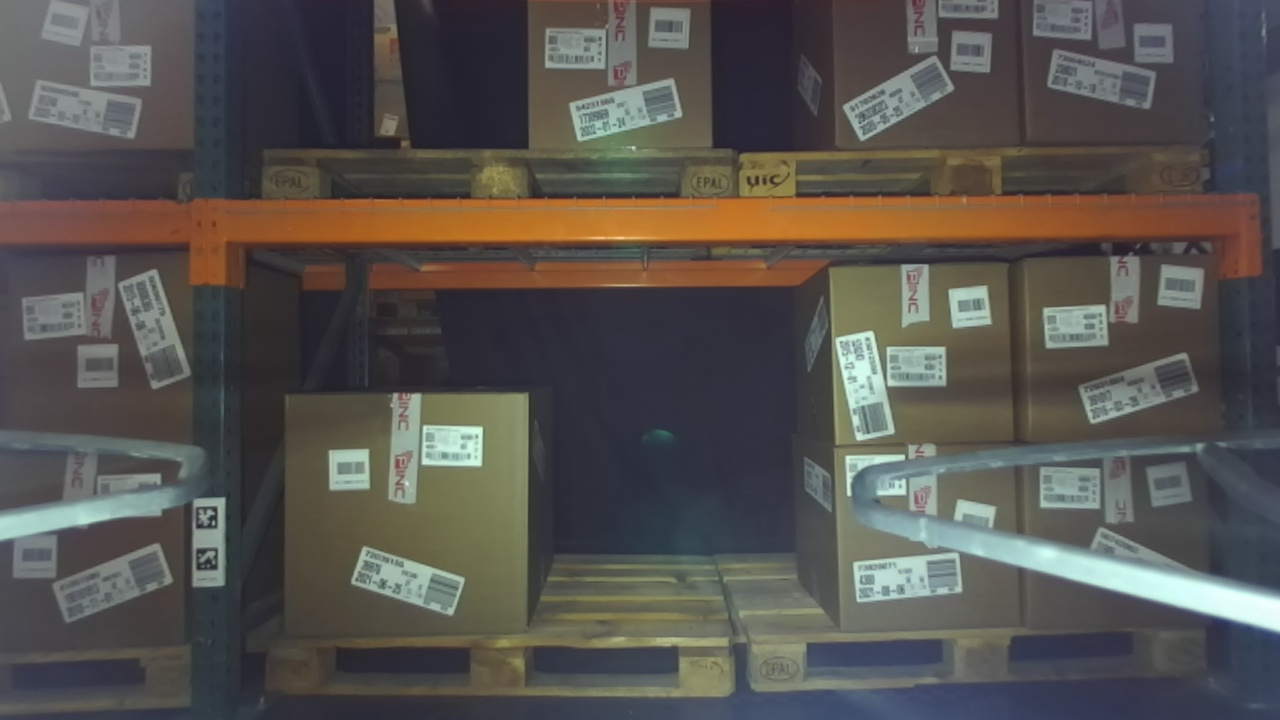box: (270, 375, 543, 659), (987, 228, 1250, 467), (1, 406, 220, 680), (1006, 418, 1239, 657), (807, 240, 1042, 470), (1, 224, 225, 449), (815, 432, 1037, 652), (497, 1, 733, 167), (989, 1, 1227, 164), (803, 1, 1038, 164), (1, 1, 214, 176)
